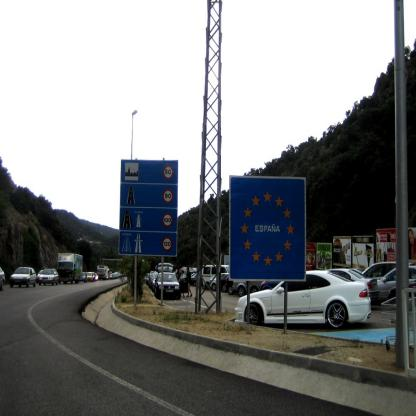Car: (1, 258, 416, 321), (146, 259, 416, 299), (241, 277, 378, 333), (12, 267, 38, 287), (39, 270, 61, 284), (110, 274, 126, 282), (83, 273, 96, 282), (1, 267, 6, 290)
